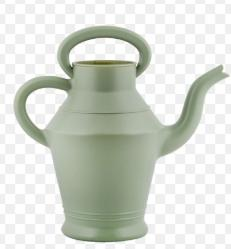ARROSOIR: (7, 2, 231, 249)
